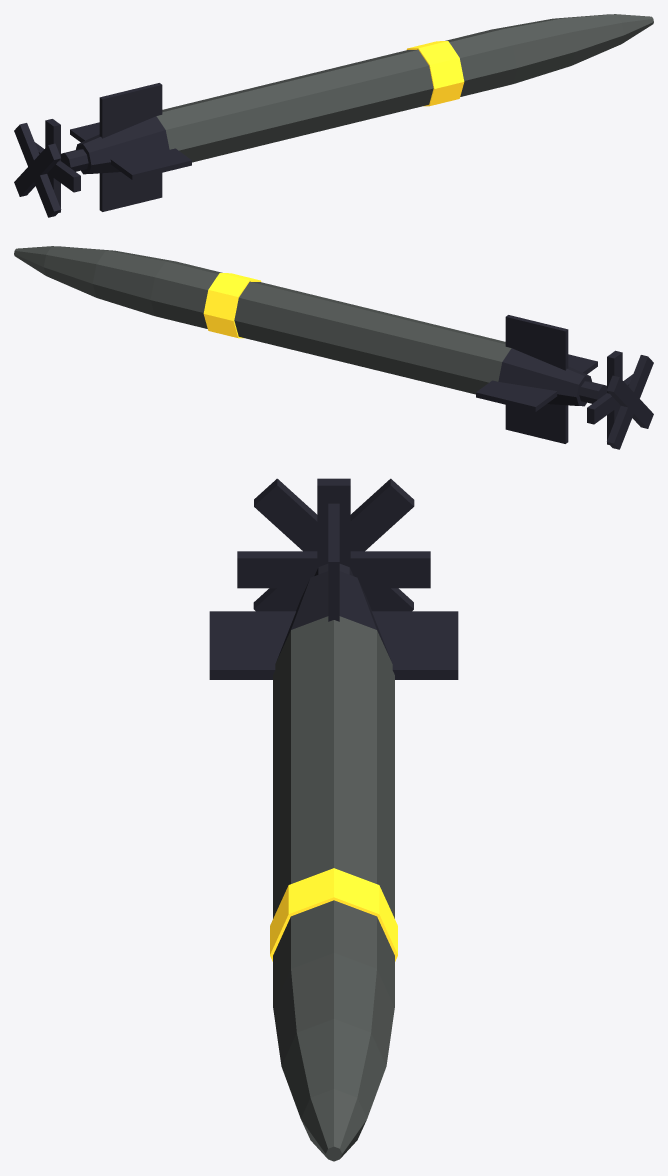
The model's file is torpedo.glb.
The picture shows the model from 3 angles, top to bottom: view 1: azimuth 30°, elevation 25°; view 2: azimuth 150°, elevation 25°; view 3: azimuth 270°, elevation 25°; orthographic projection. The views are drawn at different scales.
Parts seen in each view (by area): view 1: Torpedo, TorpedoProp; view 2: Torpedo, TorpedoProp; view 3: Torpedo, TorpedoProp.
Boxes of the visible parts, box(x1,y1,x2,y2) form: Torpedo: box(61, 14, 653, 211); TorpedoProp: box(14, 119, 80, 217); Torpedo: box(14, 246, 606, 443); TorpedoProp: box(587, 350, 653, 449); Torpedo: box(209, 503, 458, 1161); TorpedoProp: box(237, 478, 430, 611).
Size of the model in its own units: 0.516 by 0.09 by 0.09.
